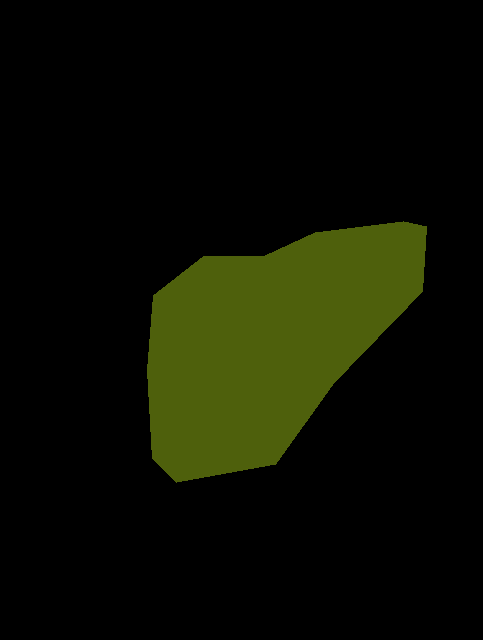Train: (147, 221, 427, 483)
